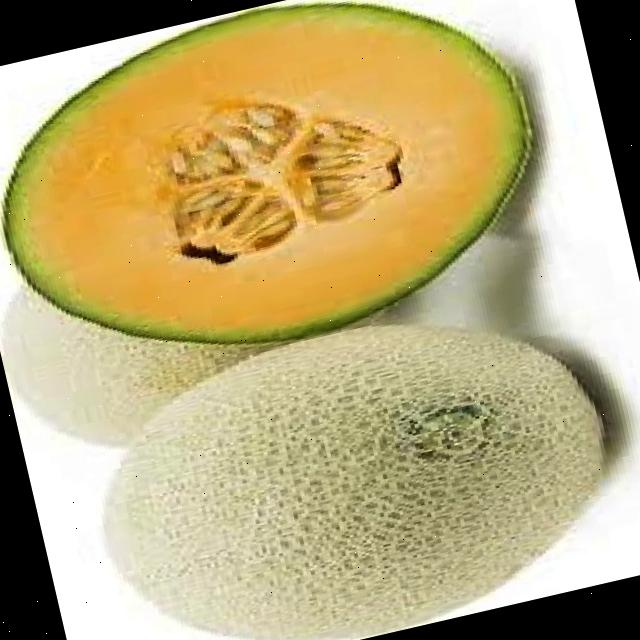Hami Melon: (0, 0, 559, 394), (65, 280, 634, 640)
